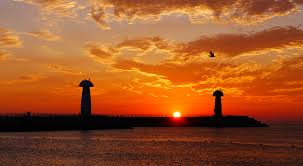sky: (2, 2, 298, 127)
